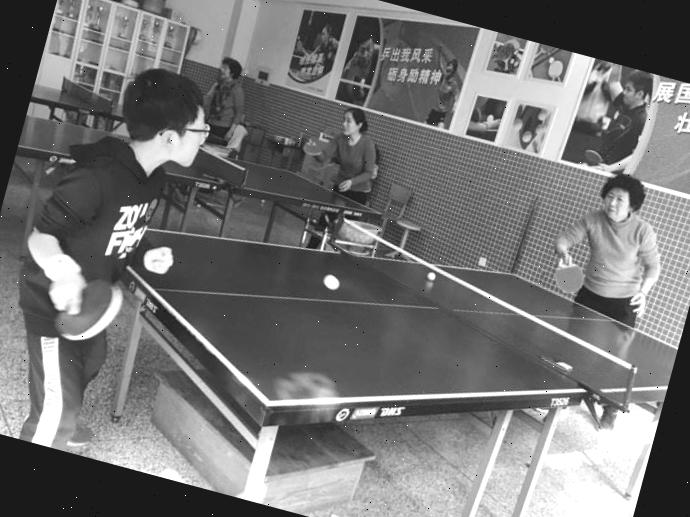ball: (318, 266, 343, 294), (423, 267, 438, 283)
